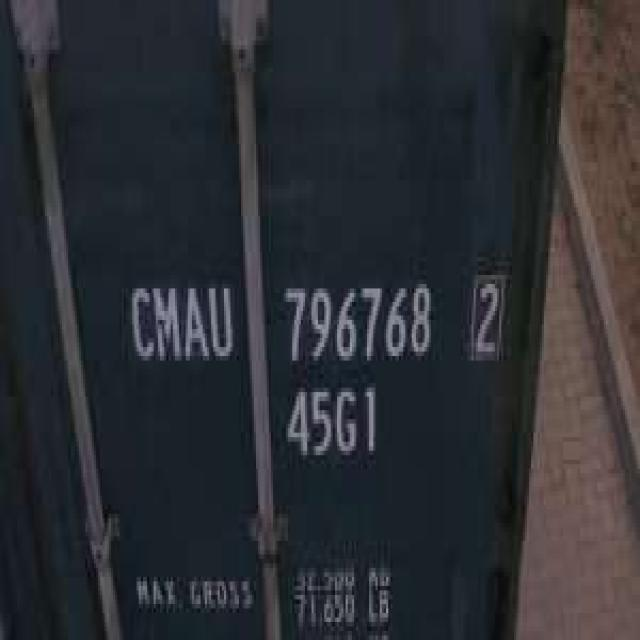dv: (470, 269, 504, 370)
owner: (125, 267, 239, 373)
serial: (281, 268, 436, 371)
size: (282, 380, 382, 470)
